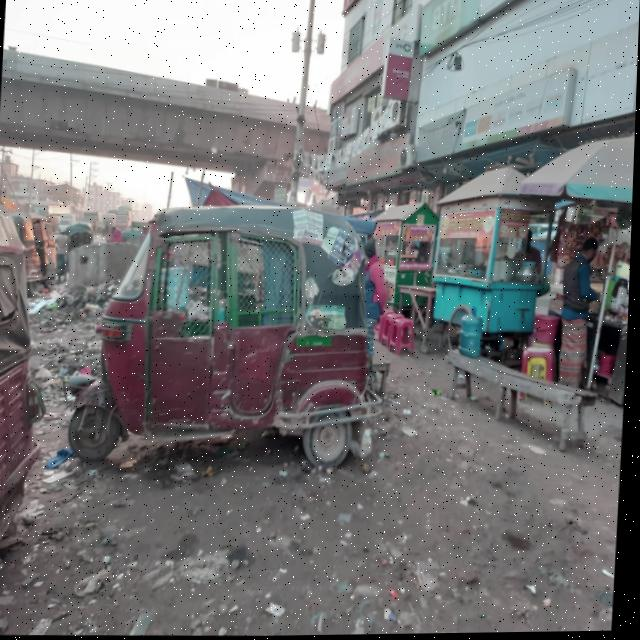cng: (51, 187, 378, 508)
